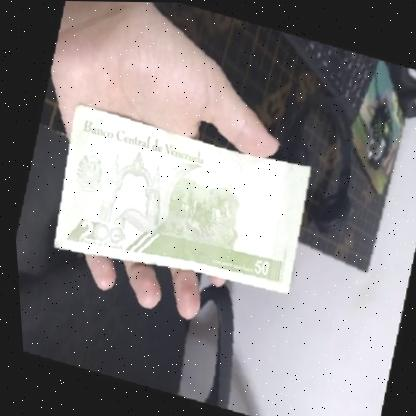fifty-back-vef: (42, 101, 318, 297)
